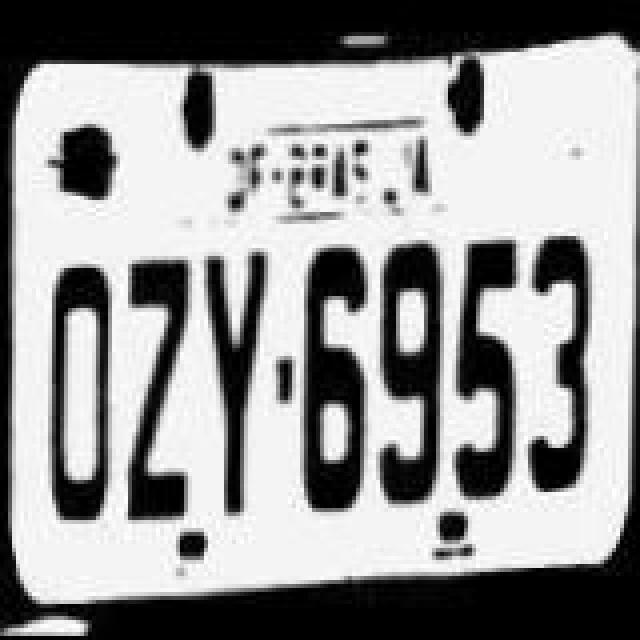3: (522, 228, 602, 508)
5: (444, 230, 528, 514)
6: (292, 234, 376, 514)
9: (372, 234, 448, 518)
O: (32, 250, 120, 534)
Y: (194, 242, 270, 518)
Z: (110, 250, 194, 530)
